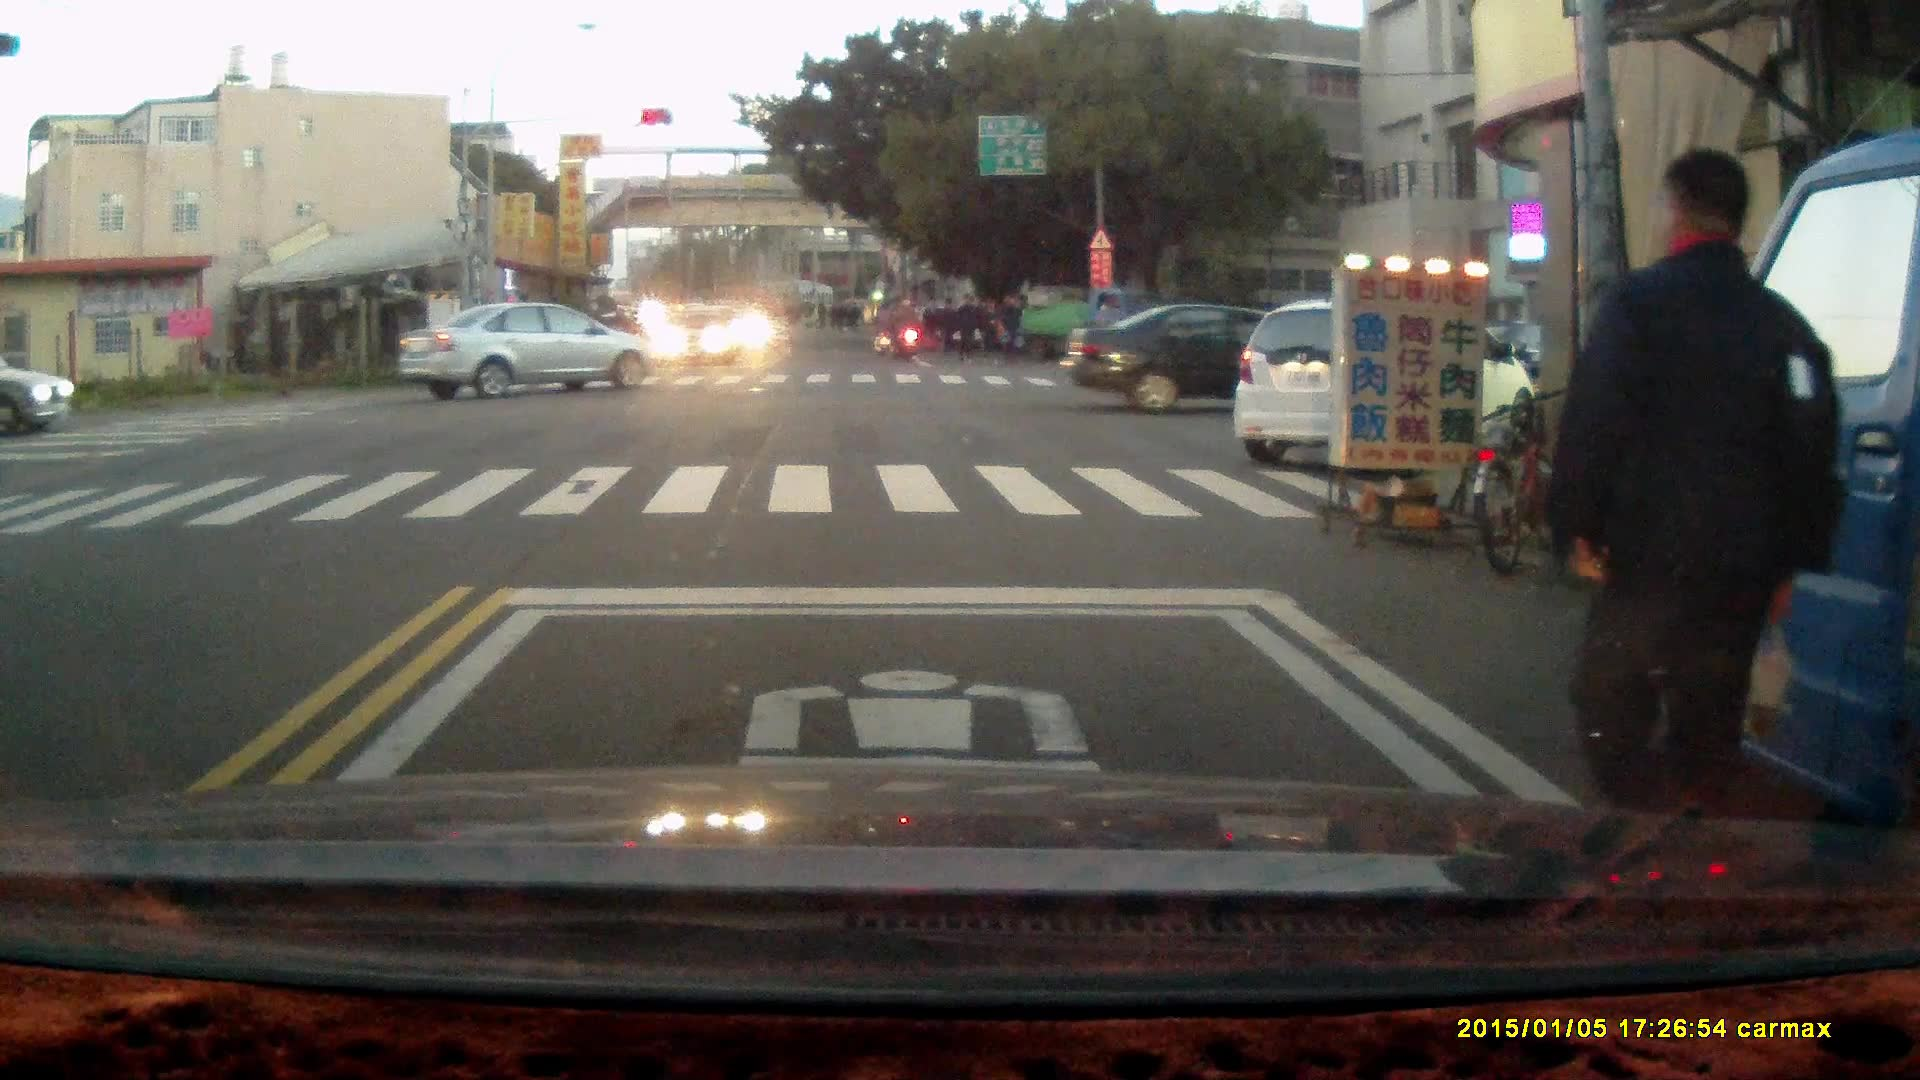pedestrian: (1555, 161, 1836, 854), (994, 291, 1023, 369), (954, 290, 981, 366)
rider: (886, 297, 920, 361), (870, 297, 898, 358), (602, 304, 630, 364)
vehicle: (1598, 132, 1920, 845), (1233, 296, 1533, 459), (1060, 299, 1375, 415), (404, 302, 665, 403), (1002, 284, 1179, 367), (1, 357, 83, 442)
